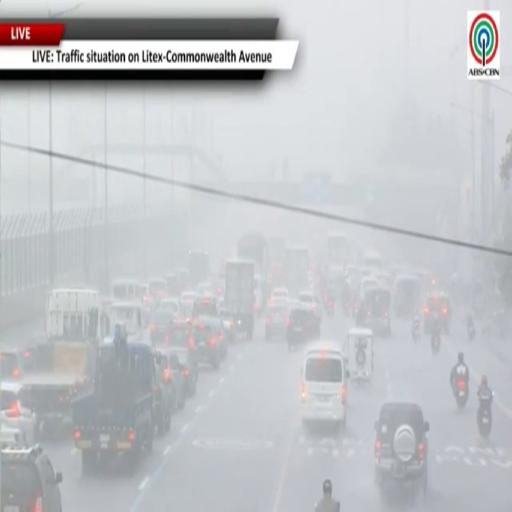car: (375, 403, 429, 492), (0, 445, 62, 511), (301, 342, 349, 427), (0, 381, 36, 445), (153, 350, 176, 435), (165, 323, 198, 380), (161, 348, 188, 409), (286, 304, 320, 348), (193, 322, 221, 370), (197, 315, 227, 359), (170, 348, 197, 396), (149, 309, 175, 346), (265, 302, 288, 340), (298, 291, 322, 322), (0, 351, 22, 380), (192, 295, 218, 317), (180, 291, 198, 318), (148, 278, 167, 303), (159, 298, 179, 315), (271, 287, 289, 299)
motorcycle: (477, 393, 492, 438), (454, 378, 468, 408), (430, 334, 440, 355), (412, 319, 420, 342), (467, 324, 476, 342)
truck: (73, 326, 159, 473), (20, 290, 101, 434), (224, 261, 254, 339), (237, 231, 269, 278), (285, 247, 309, 295), (267, 237, 286, 289), (188, 251, 210, 286), (268, 237, 286, 265)
